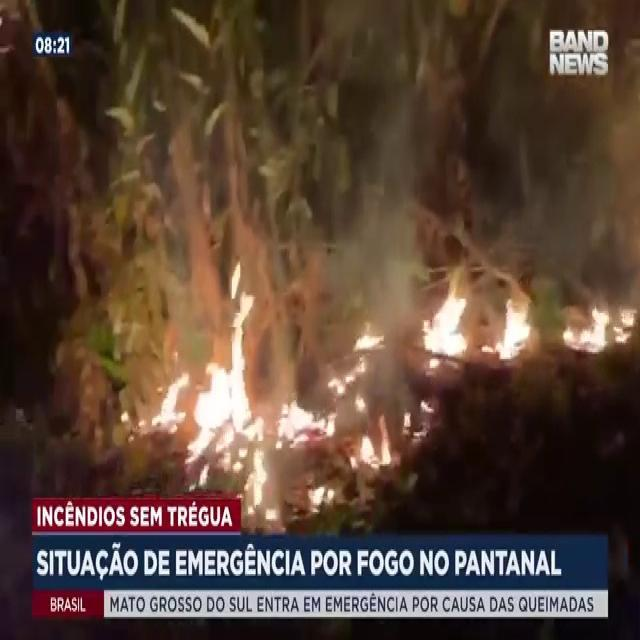Fire: (187, 265, 268, 498), (276, 394, 339, 452), (421, 295, 469, 354), (151, 367, 190, 438), (565, 294, 608, 351), (494, 302, 531, 363), (358, 412, 392, 466), (352, 329, 386, 354)
Smoke: (337, 86, 438, 296)
